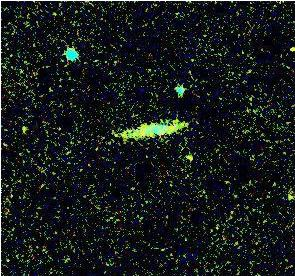star: (170, 147, 200, 177)
